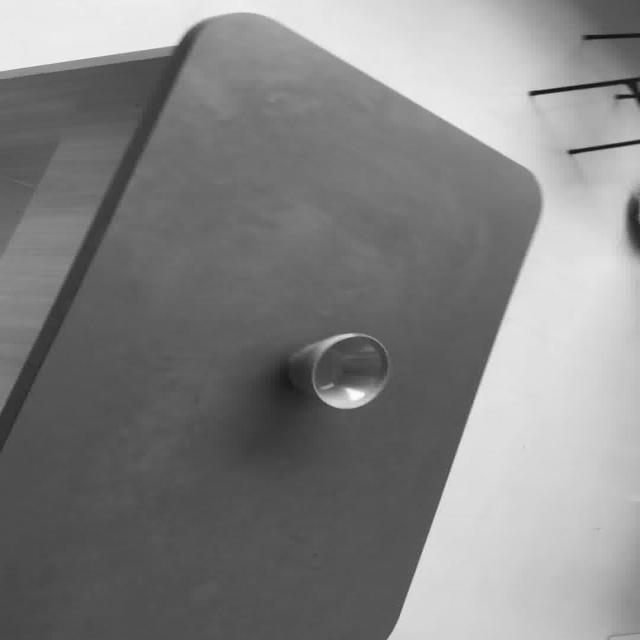bowl: (1, 10, 544, 638), (284, 332, 390, 409)
